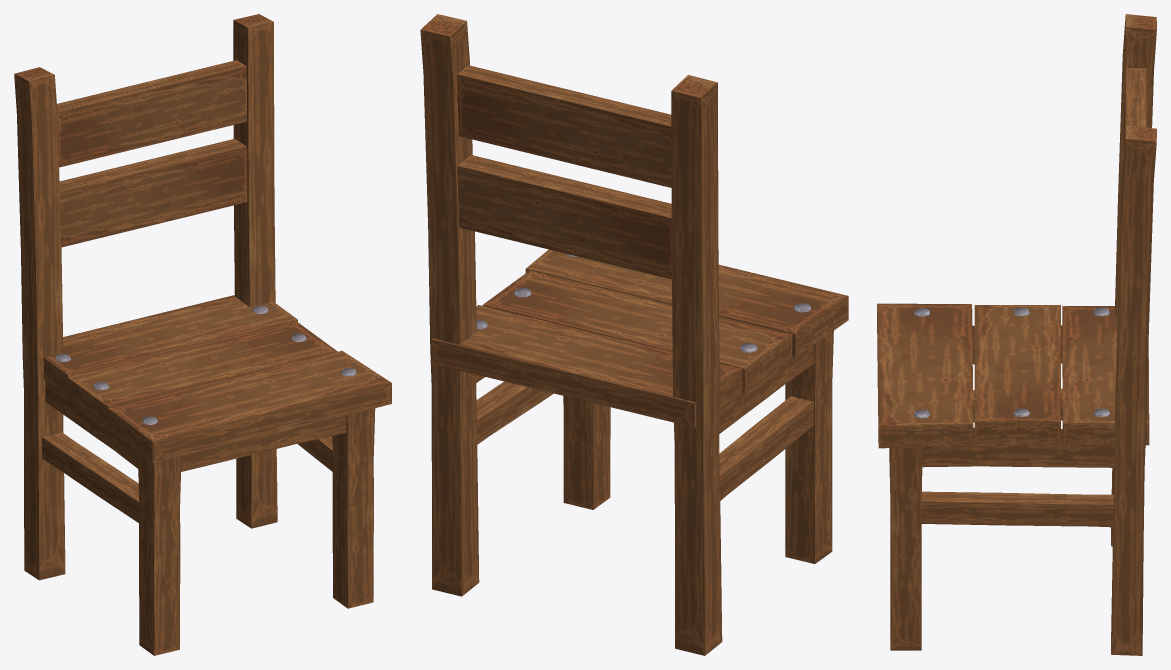
The picture shows the model from 3 angles, left to right: view 1: azimuth 30°, elevation 25°; view 2: azimuth 150°, elevation 25°; view 3: azimuth 270°, elevation 25°; orthographic projection. The views are drawn at different scales.
Parts seen in each view (by area): view 1: ddcc3d6e1ffba2575a9ad5c6e02f5f299d918638f3e83151b75ace5729ff; view 2: ddcc3d6e1ffba2575a9ad5c6e02f5f299d918638f3e83151b75ace5729ff; view 3: ddcc3d6e1ffba2575a9ad5c6e02f5f299d918638f3e83151b75ace5729ff.
Boxes of the visible parts, left/top/right/bottom form: ddcc3d6e1ffba2575a9ad5c6e02f5f299d918638f3e83151b75ace5729ff: left=14, top=14, right=391, bottom=655; ddcc3d6e1ffba2575a9ad5c6e02f5f299d918638f3e83151b75ace5729ff: left=420, top=14, right=848, bottom=655; ddcc3d6e1ffba2575a9ad5c6e02f5f299d918638f3e83151b75ace5729ff: left=877, top=14, right=1156, bottom=655.
Size of the model in its own units: 0.5805 by 1.12 by 0.5489.
2 materials, 2 textured.
